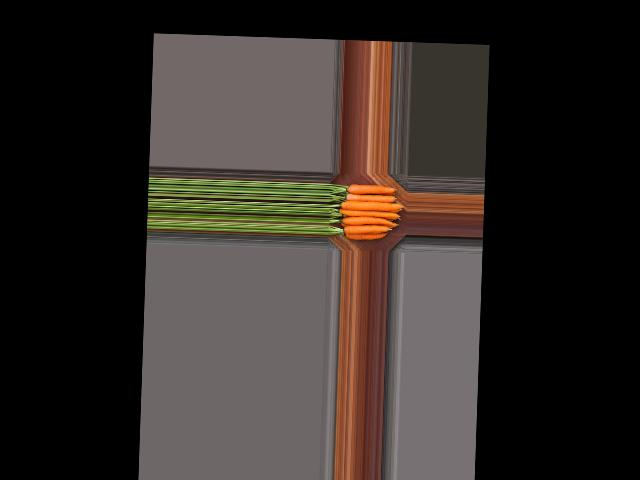carrot: (343, 230, 392, 244)
